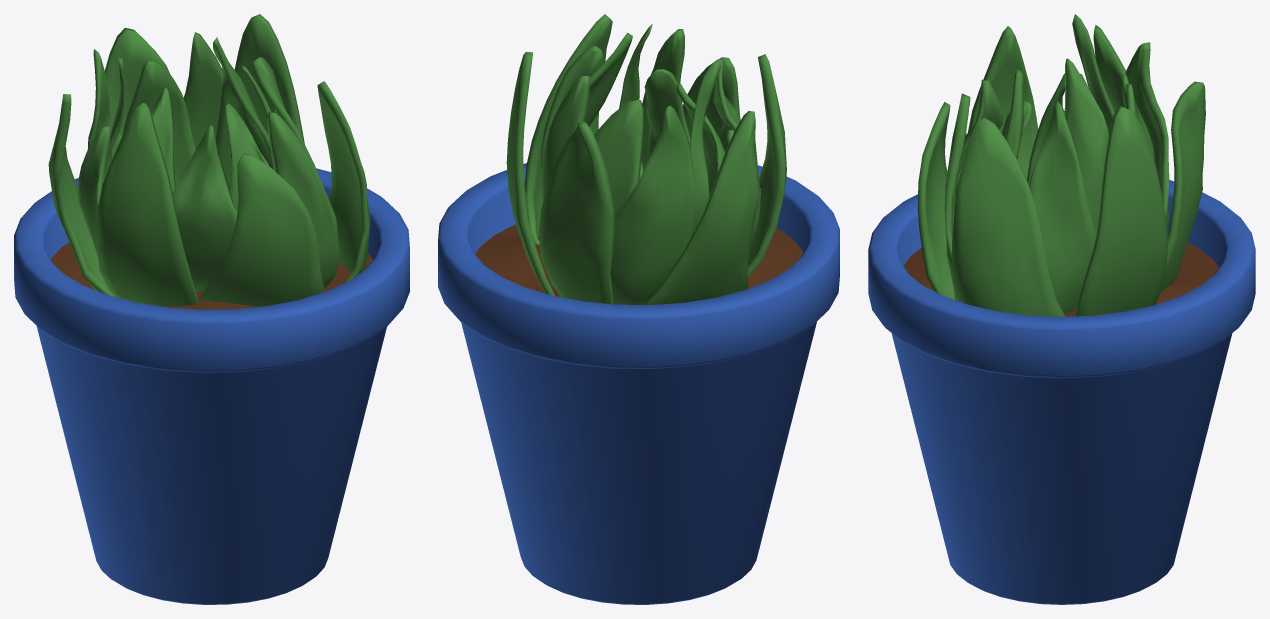
Rendered from Succulent 2.fbx.
3 renders of one model, left to right at view 1: azimuth 30°, elevation 25°; view 2: azimuth 150°, elevation 25°; view 3: azimuth 270°, elevation 25°, orthographic. The views are drawn at different scales.
Parts seen in each view (by area): view 1: Sukulen 2; view 2: Sukulen 2; view 3: Sukulen 2.
Part boxes in pixels (x1,y1,x2,y2): Sukulen 2: (14, 14, 409, 604); Sukulen 2: (438, 14, 839, 604); Sukulen 2: (868, 14, 1255, 604).
Size of the model in its own units: 27.95 by 40.16 by 27.95.
